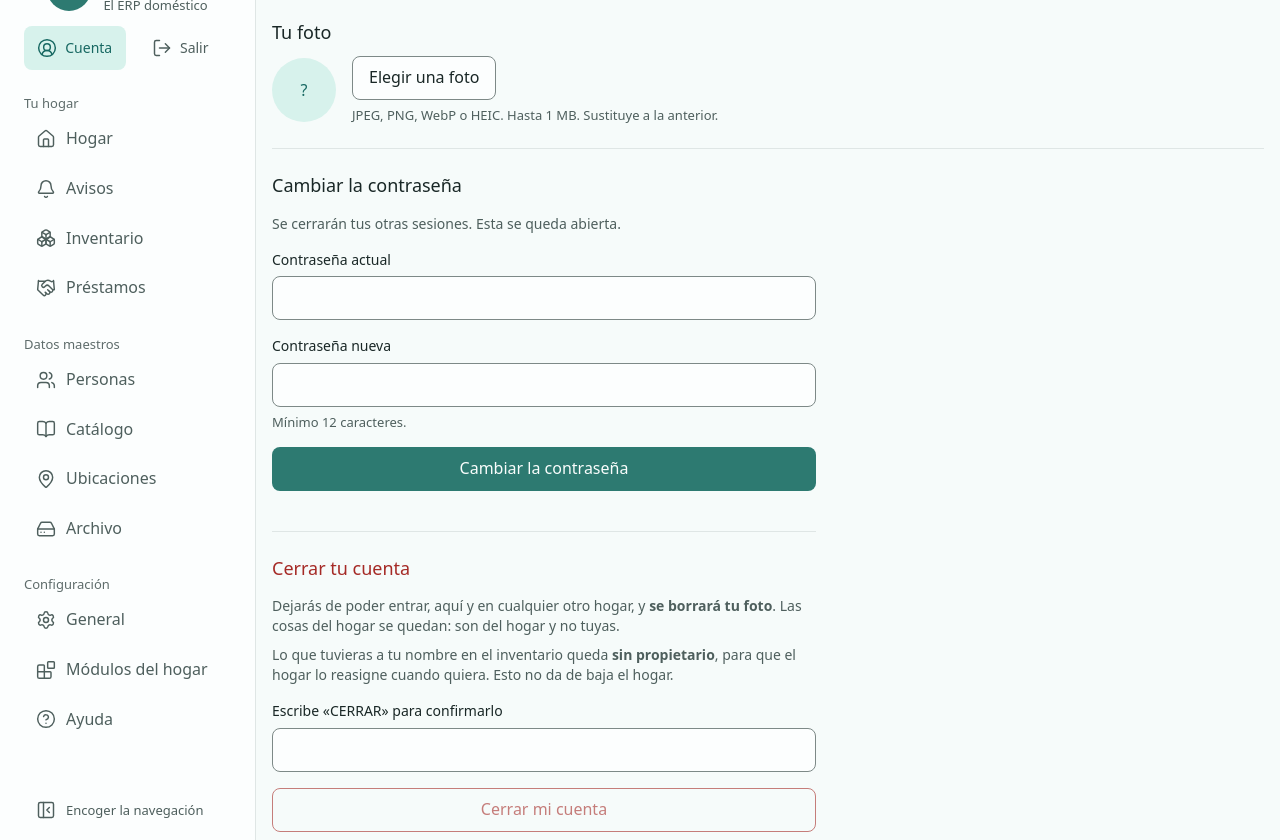
it: cerrar la cuenta › el error del último administrador se explica con lo que hay que hacer
Expected: the navigation bar named "Principal" is shown, x1=24 y1=94 x2=231 y2=742
Expected: the heading "Cerrar tu cuenta" is shown, x1=272 y1=556 x2=410 y2=580
Type "CERRAR" into the field labelled "Escribe «CERRAR» para confirmarlo" at {"x": 544, "y": 750}, box x1=272 y1=728 x2=816 y2=772
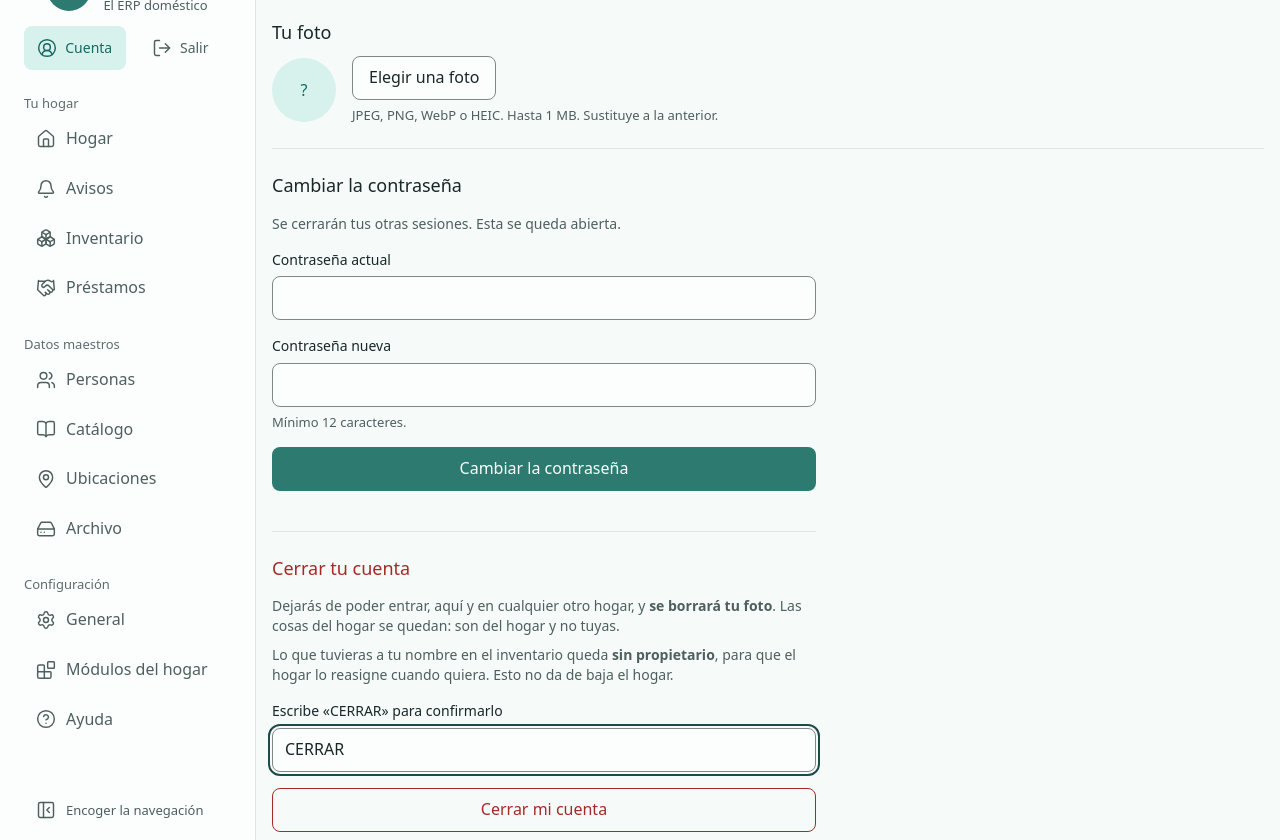
Click the button "Cerrar mi cuenta" at {"x": 544, "y": 810}, box x1=272 y1=788 x2=816 y2=832
(page scrolled)
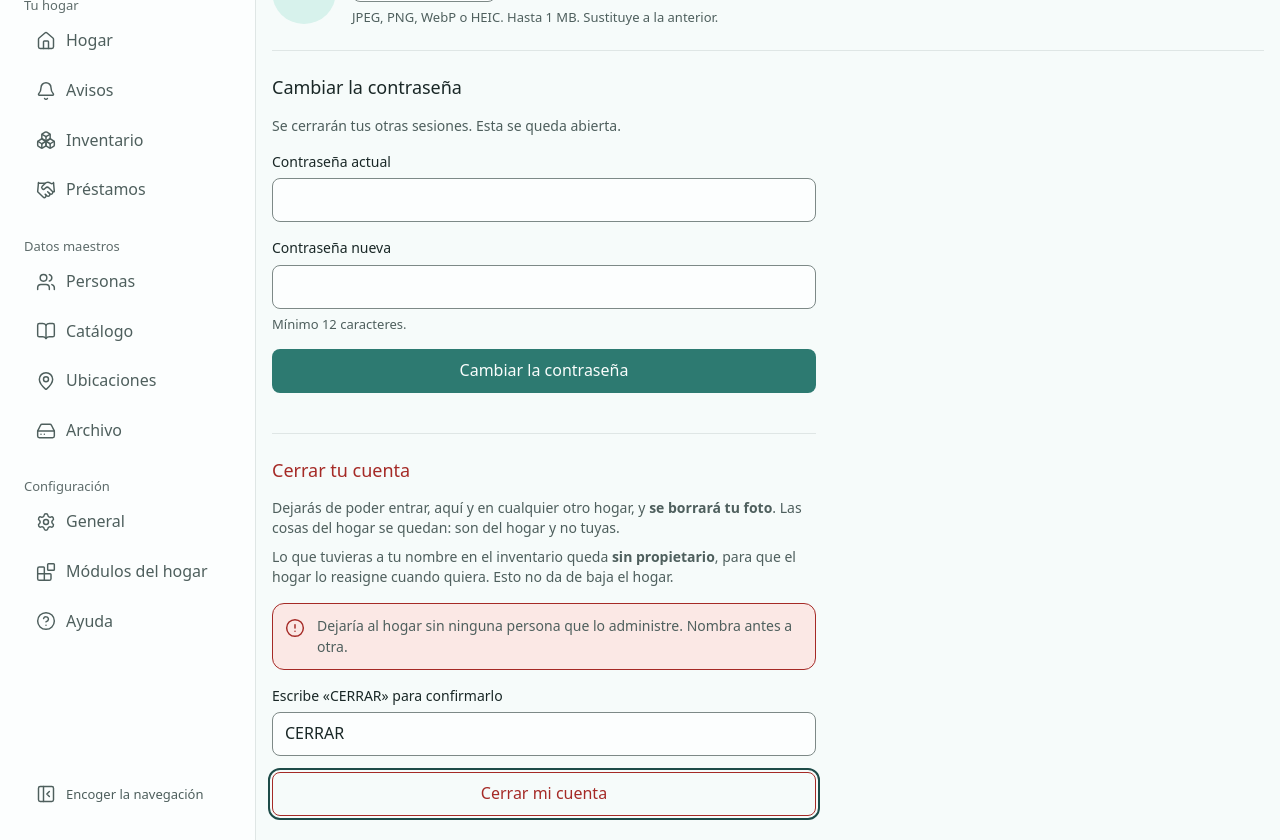
Expected: the text "Nombra antes a otra" is shown, x1=317 y1=616 x2=792 y2=656
